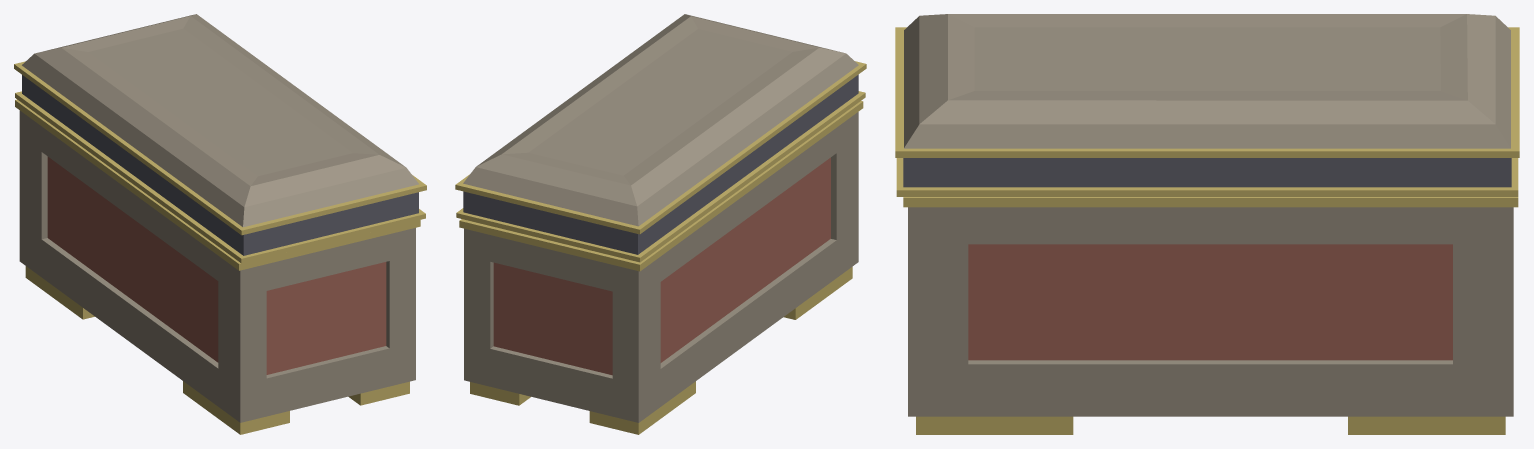
File: egypt_chest.fbx
3 views of the same model, side by side, from view 1: azimuth 30°, elevation 25°; view 2: azimuth 150°, elevation 25°; view 3: azimuth 270°, elevation 25° (orthographic). The views are drawn at different scales.
Parts seen in each view (by area): view 1: pCube91, pCube92; view 2: pCube91, pCube92; view 3: pCube91, pCube92.
Boxes of the visible parts, x1,y1,x2,y2 form: pCube91: [15, 99, 420, 434]; pCube92: [14, 14, 426, 263]; pCube91: [459, 101, 863, 434]; pCube92: [455, 14, 866, 262]; pCube91: [903, 197, 1518, 434]; pCube92: [895, 14, 1519, 196].
Size of the model in its own units: 1.25 by 1.51 by 2.66.
